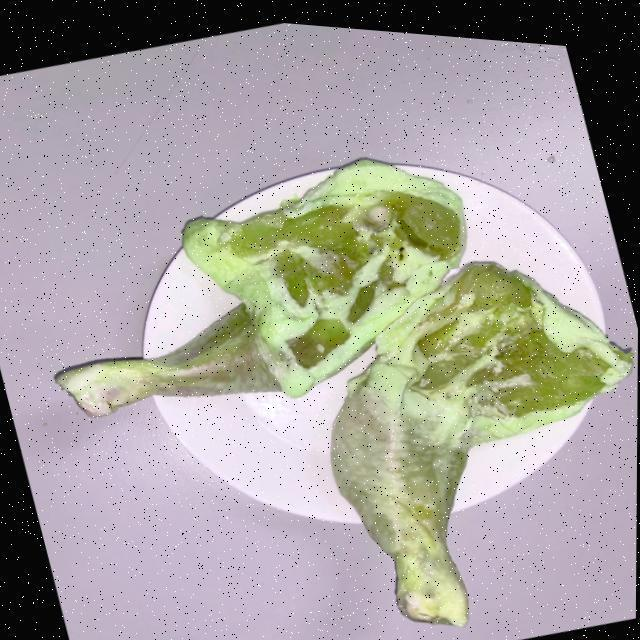quater: (54, 170, 452, 418), (344, 262, 592, 627)
